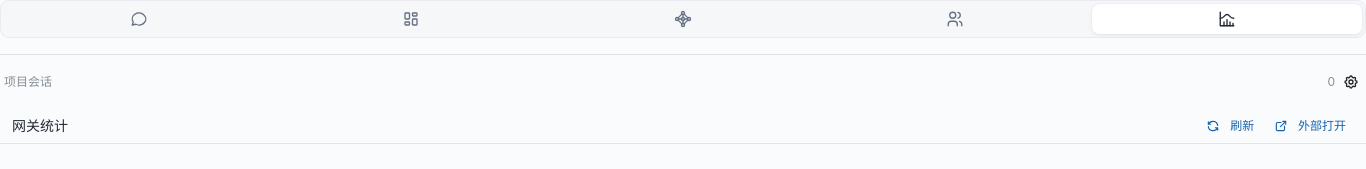
Test: keeps the native statistics page visible while its usage preview is hovered
Hover over the link named "统计".
mouse_move(1227, 19)  # box [1092,4,1362,34]
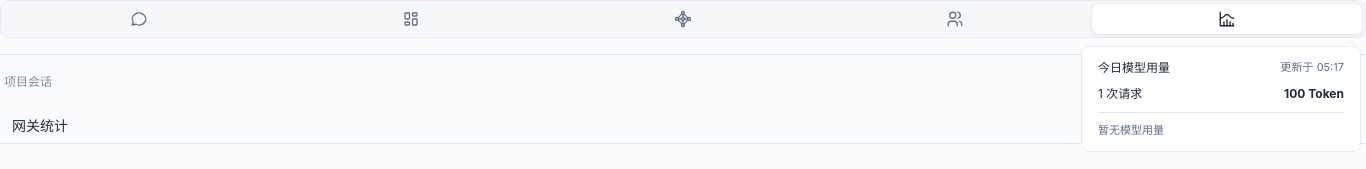
Check: the text "今日模型用量" is shown, box [1098,58,1170,77]
Move the pointer off the link named "统计", box [1092,4,1362,34]
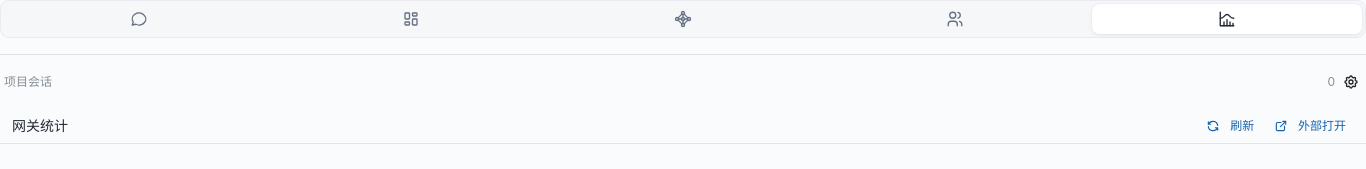
Check: the text "今日模型用量" is gone
